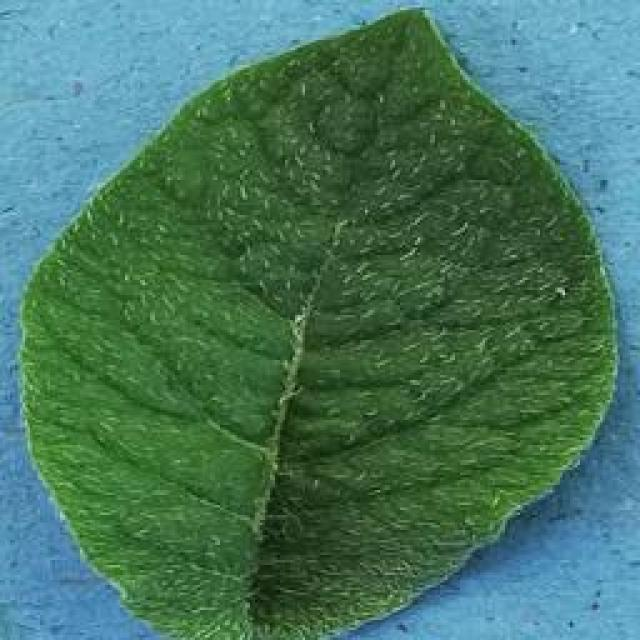Potato_Healthy: (18, 4, 611, 631)
